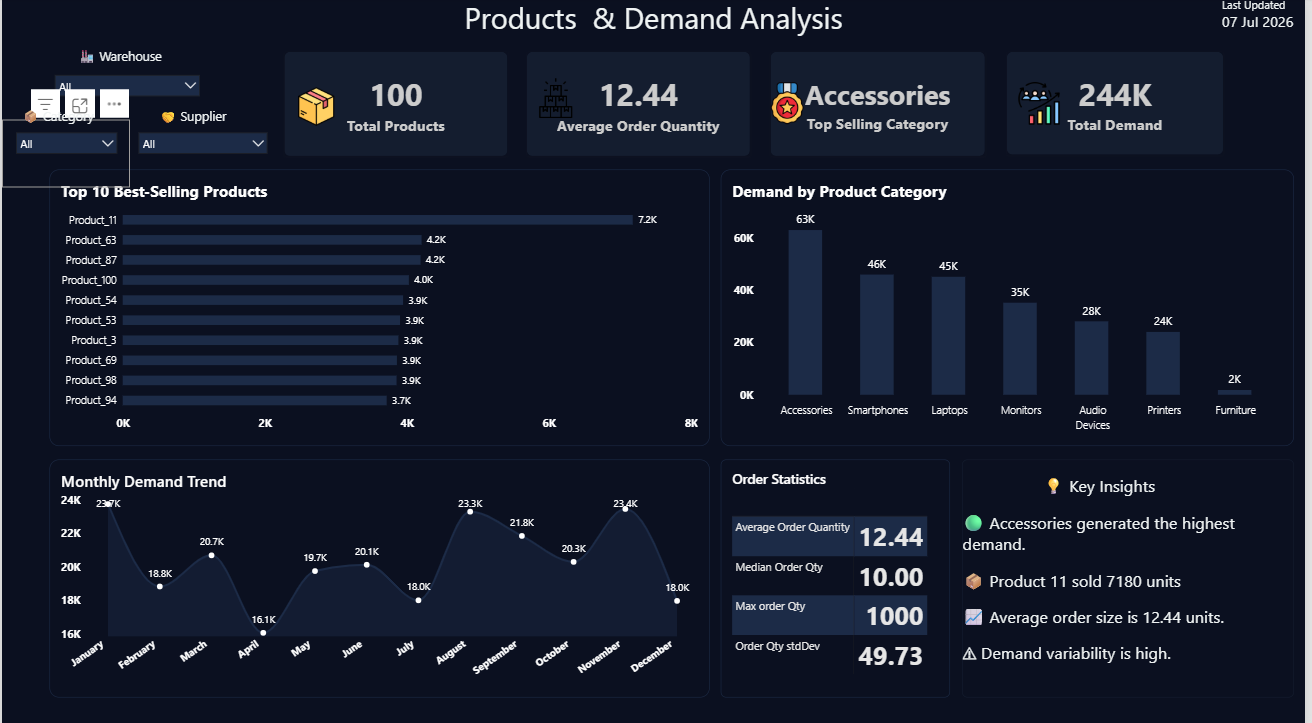

What the dashboard file says about the page in this screenshot:
{"tool":"powerbi","page":{"name":"Product & Demand Analysis","canvas":[1920,1080],"ordinal":3},"visuals":[{"type":"textbox","box":[681.7,0,560.5,58.4],"z":0},{"type":"cardVisual","fields":{"Data":["Dax measure.Total Products"]},"box":[415.5,80.1,328.9,153.7],"z":1000},{"type":"cardVisual","fields":{"Data":["Dax measure.Average Order Quantity"]},"box":[772.6,80.1,328.9,153.7],"z":2000},{"type":"cardVisual","fields":{"Data":["Dax measure.Top Selling Category"]},"box":[1131.8,80.1,316,153.7],"z":3000},{"type":"barChart","title":"Top 10  Best-Selling Products ","fields":{"Category":["Products.Product_Name"],"Y":["Sum(Orders.Quantity)"]},"box":[69.3,253.2,971.7,406.9],"z":4000},{"type":"columnChart","title":"Demand by Product Category","fields":{"Category":["Products.Category"],"Y":["Sum(Orders.Quantity)"]},"box":[1058.3,253.2,844,406.9],"z":5000},{"type":"lineChart","title":"Monthly Demand Trend","fields":{"Y":["Sum(Orders.Quantity)"],"Category":["Date.Date.Variation.Date Hierarchy.Month"]},"box":[69.3,681.7,971.7,350.6],"z":6000},{"type":"cardVisual","fields":{"Data":["Dax measure.Total Demand"]},"box":[1480.3,80.1,318.1,151.5],"z":7000},{"type":"pivotTable","title":"Order Statistics","fields":{"Values":["Dax measure.Average Order Quantity","Dax measure.Median Order Qty","Dax measure.Max order Qty","Dax measure.Order Qty stdDev"]},"box":[1058.3,681.7,337.6,350.6],"z":8000},{"type":"textbox","box":[1413.2,681.7,489.1,350.6],"z":9000},{"type":"slicer","fields":{"Values":["Warehouses.Warehouse_Name"]},"box":[56.3,95.2,255.4,84.4],"z":10000},{"type":"textbox","box":[112.5,73.6,134.2,43.3],"z":11000},{"type":"slicer","fields":{"Values":["Products.Category"]},"box":[0,179.6,190.4,101.7],"z":12000},{"type":"textbox","box":[30.3,162.3,134.2,34.6],"z":13000},{"type":"slicer","fields":{"Values":["Shipments.Supplier_ID"]},"box":[179.6,179.6,231.6,101.7],"z":14000},{"type":"textbox","box":[231.6,162.3,112.5,34.6],"z":15000},{"type":"image","box":[434.4,128.8,57.1,64.4],"z":16000},{"type":"image","box":[773,117.8,84.7,62.6],"z":17000},{"type":"image","box":[1494.5,117.8,64.4,77.3],"z":18000},{"type":"image","box":[1115.3,125.2,81,62.6],"z":19000},{"type":"textbox","box":[1796.3,0,123.3,71.8],"z":19001}]}

Visuals, with their boxes on the page's 1920x1080 design canvas (x1, y1, x2, y2). These are canvas units, not pixel positions in the 1312x723 screenshot, which may show the page scaled, cropped or inside an application window:
textbox: (left=682, top=0, right=1242, bottom=58)
cardVisual - Dax measure.Total Products: (left=416, top=80, right=744, bottom=234)
cardVisual - Dax measure.Average Order Quantity: (left=773, top=80, right=1102, bottom=234)
cardVisual - Dax measure.Top Selling Category: (left=1132, top=80, right=1448, bottom=234)
"Top 10  Best-Selling Products " barChart: (left=69, top=253, right=1041, bottom=660)
"Demand by Product Category" columnChart: (left=1058, top=253, right=1902, bottom=660)
"Monthly Demand Trend" lineChart: (left=69, top=682, right=1041, bottom=1032)
cardVisual - Dax measure.Total Demand: (left=1480, top=80, right=1798, bottom=232)
"Order Statistics" pivotTable: (left=1058, top=682, right=1396, bottom=1032)
textbox: (left=1413, top=682, right=1902, bottom=1032)
slicer - Warehouses.Warehouse_Name: (left=56, top=95, right=312, bottom=180)
textbox: (left=112, top=74, right=247, bottom=117)
slicer - Products.Category: (left=0, top=180, right=190, bottom=281)
textbox: (left=30, top=162, right=164, bottom=197)
slicer - Shipments.Supplier_ID: (left=180, top=180, right=411, bottom=281)
textbox: (left=232, top=162, right=344, bottom=197)
image: (left=434, top=129, right=492, bottom=193)
image: (left=773, top=118, right=858, bottom=180)
image: (left=1494, top=118, right=1559, bottom=195)
image: (left=1115, top=125, right=1196, bottom=188)
textbox: (left=1796, top=0, right=1920, bottom=72)
